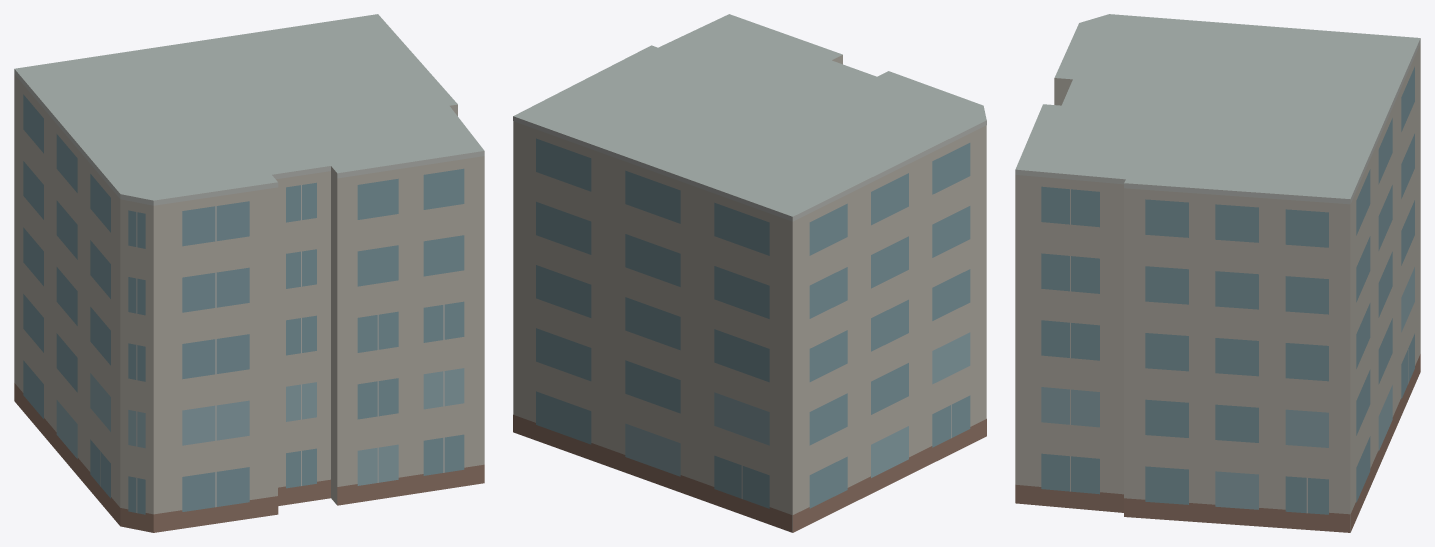
File: survey-upis-32543982.glb
The picture shows the model from 3 angles, left to right: view 1: azimuth 30°, elevation 25°; view 2: azimuth 150°, elevation 25°; view 3: azimuth 270°, elevation 25°; orthographic projection. The views are drawn at different scales.
Visible parts, largest first — view 1: survey-upis-32543982.tmp; view 2: survey-upis-32543982.tmp; view 3: survey-upis-32543982.tmp.
Part boxes in pixels (x1,y1,x2,y2): survey-upis-32543982.tmp: (14,14,484,532); survey-upis-32543982.tmp: (513,14,986,532); survey-upis-32543982.tmp: (1015,14,1420,532).
Size of the model in its own units: 18.69 by 15.7 by 17.29.
